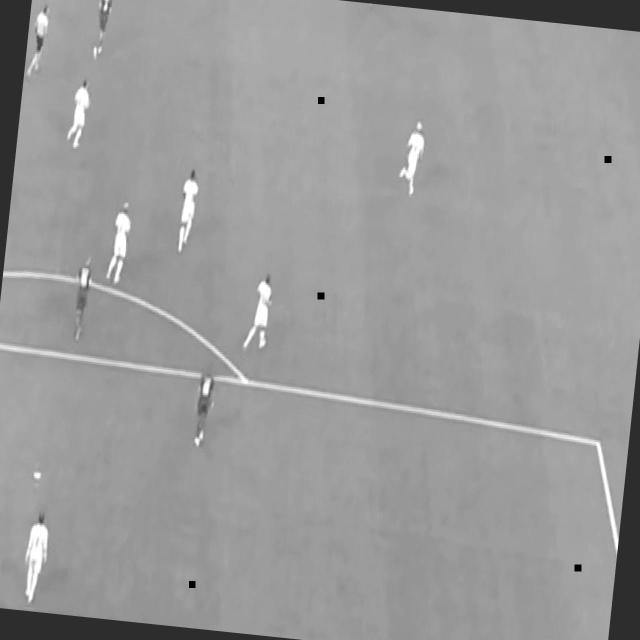player-white: (19, 510, 52, 606), (241, 270, 277, 352), (189, 363, 219, 450), (105, 198, 133, 288), (70, 252, 96, 344), (397, 120, 427, 198), (176, 168, 202, 258), (25, 1, 51, 81), (65, 78, 93, 152), (91, 0, 115, 63)
